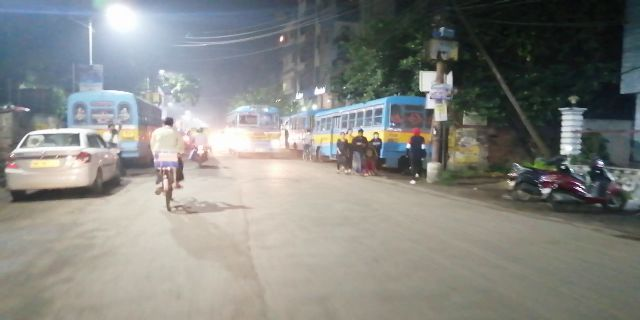Bus: (313, 95, 430, 168), (65, 86, 164, 165), (233, 99, 287, 158)
Car: (4, 128, 120, 195)
Cycle: (145, 115, 191, 212)
